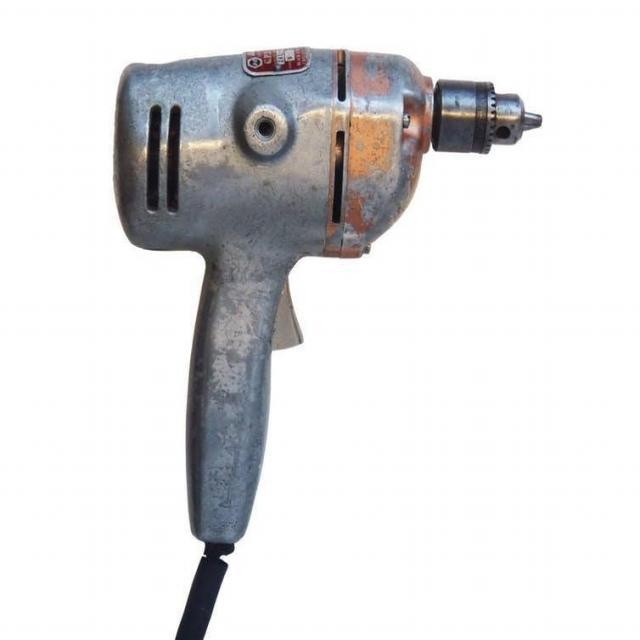drill: (112, 46, 544, 558)
